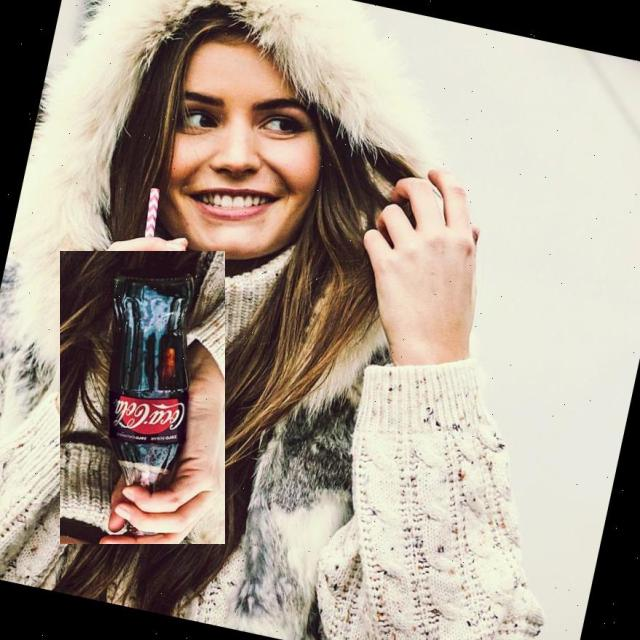coca-cola: (60, 251, 225, 544)
